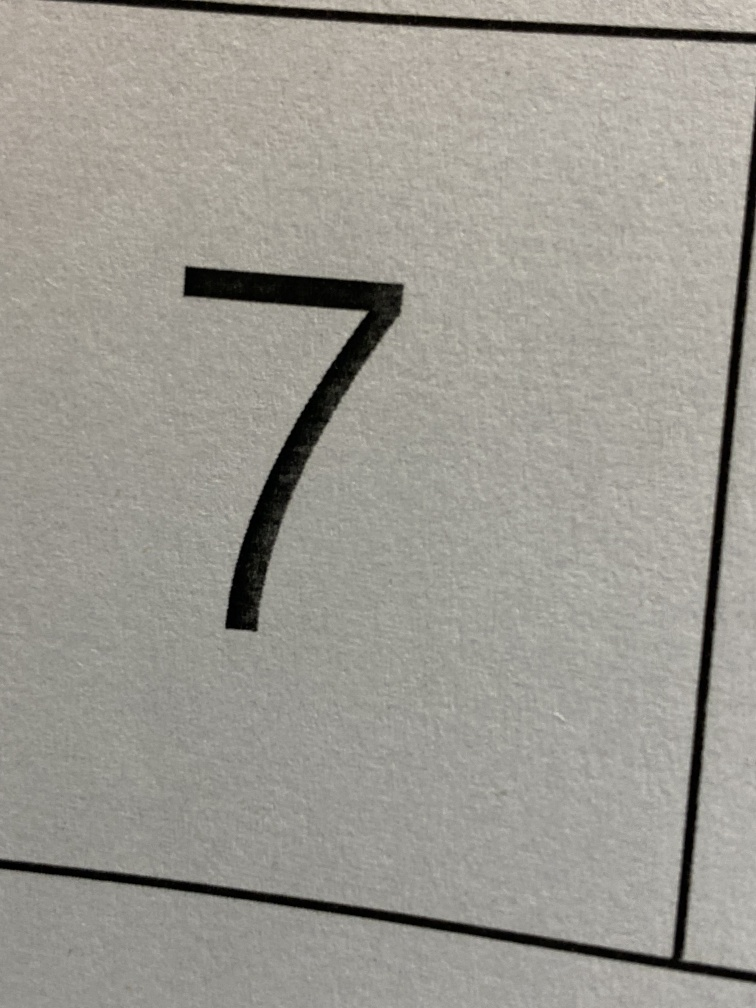seven: (92, 176, 491, 719)
